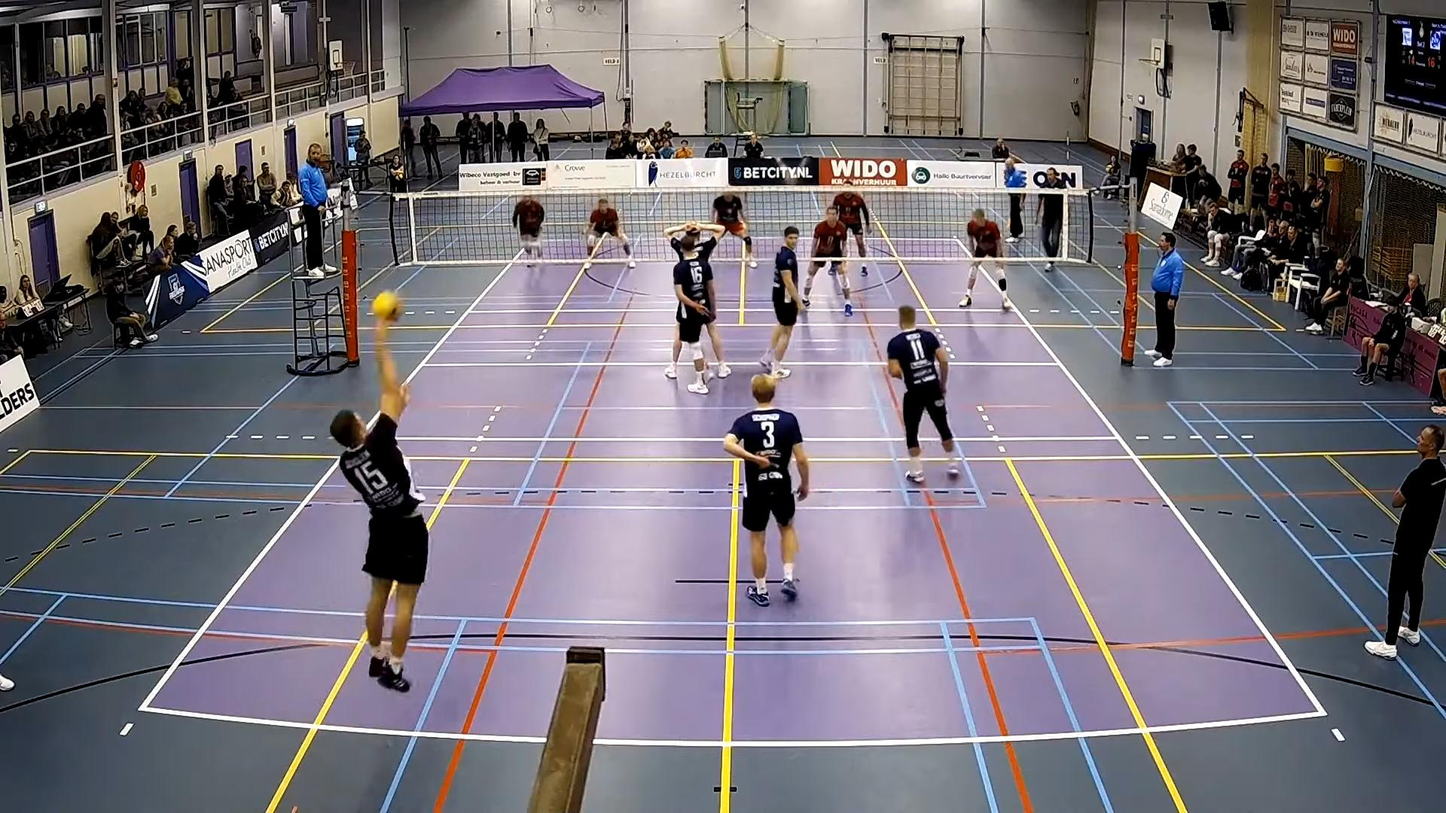Player: (724, 374, 808, 606), (887, 306, 958, 483), (664, 223, 721, 394), (760, 226, 804, 378), (802, 206, 852, 315), (959, 209, 1011, 310), (584, 197, 636, 267), (712, 190, 755, 266), (833, 189, 870, 276), (512, 196, 545, 267), (664, 223, 721, 260)
Serve: (310, 322, 441, 697)
ball: (369, 293, 407, 320)
